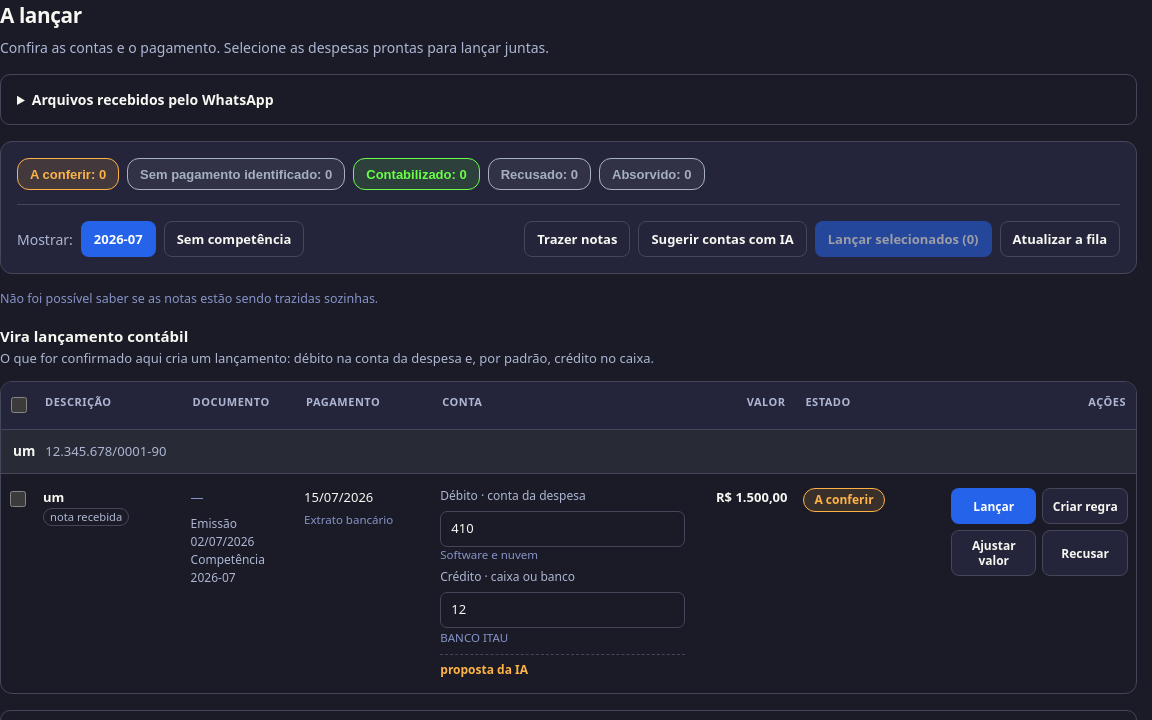
Test: seleção e lançamento em lote › nova suspeita de duplicidade impede abrir o lote
Click the checkbox named "Selecionar um" at (18, 499), box x1=10 y1=491 x2=26 y2=507
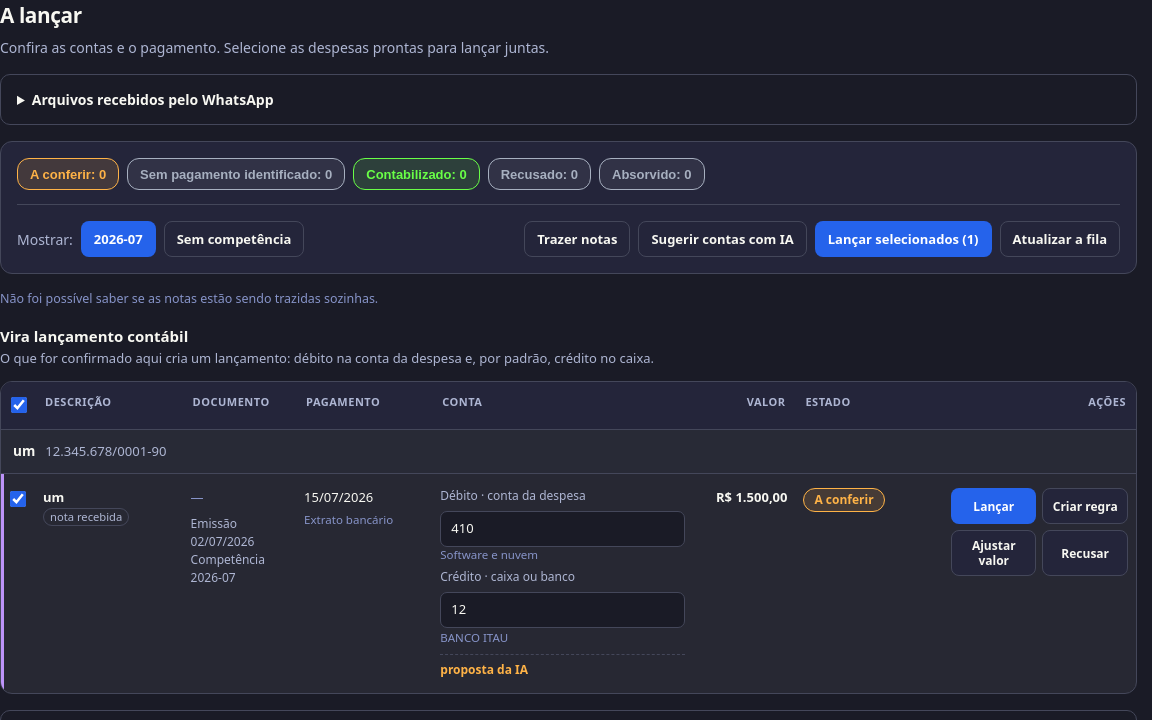
Click the button "Lançar selecionados (1)" at (903, 239), box x1=815 y1=221 x2=992 y2=257
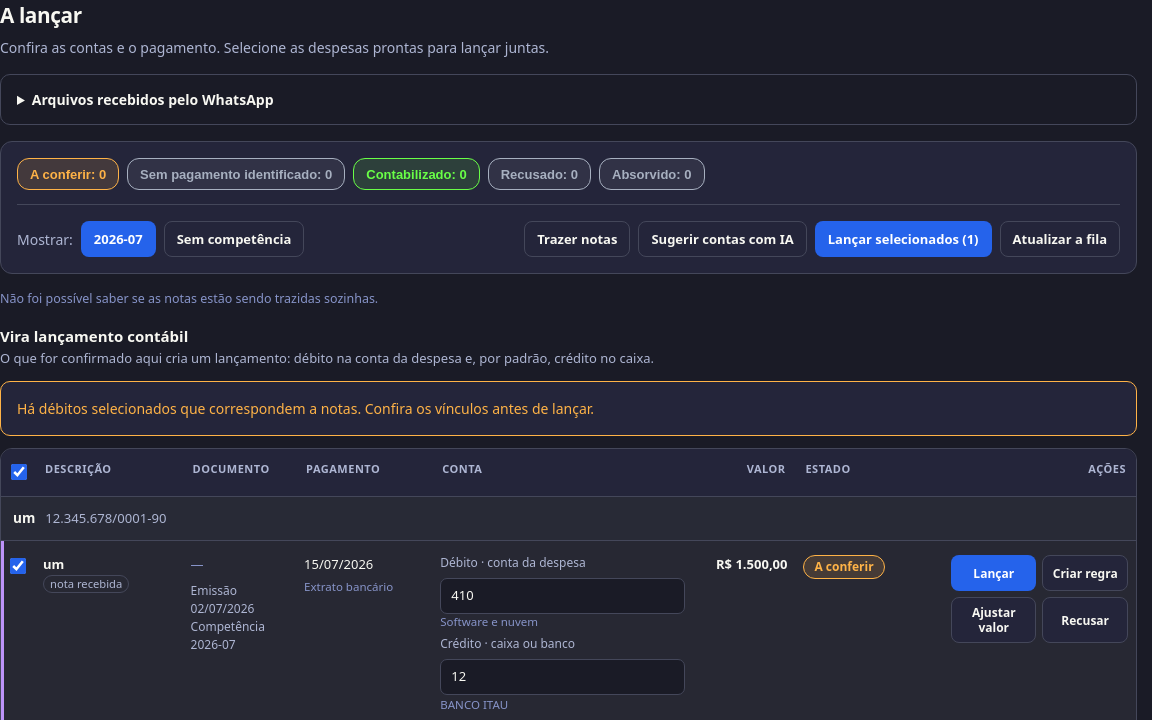
expect the text "Há débitos selecionados" is shown: met, box x1=17 y1=399 x2=594 y2=418
